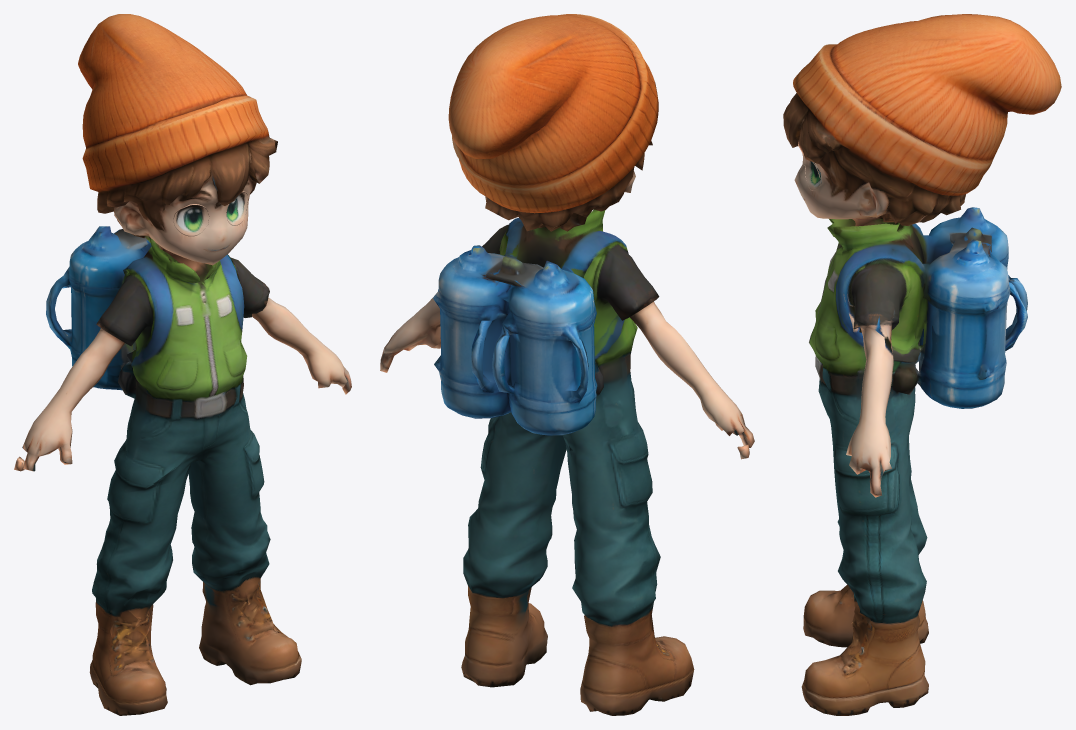
The model's file is Player_Blink.glb.
3 views of the same model, side by side, from view 1: azimuth 30°, elevation 25°; view 2: azimuth 150°, elevation 25°; view 3: azimuth 270°, elevation 25° (orthographic). The views are drawn at different scales.
Parts seen in each view (by area): view 1: Player_Low_5K; view 2: Player_Low_5K; view 3: Player_Low_5K.
Boxes of the visible parts, x1,y1,x2,y2 form: Player_Low_5K: (14,14,351,715); Player_Low_5K: (380,14,754,715); Player_Low_5K: (783,14,1061,715).
Bounding box in the file's own units: 1.02 × 1.8 × 0.7002.
Materials: 3 (3 with a texture image).
